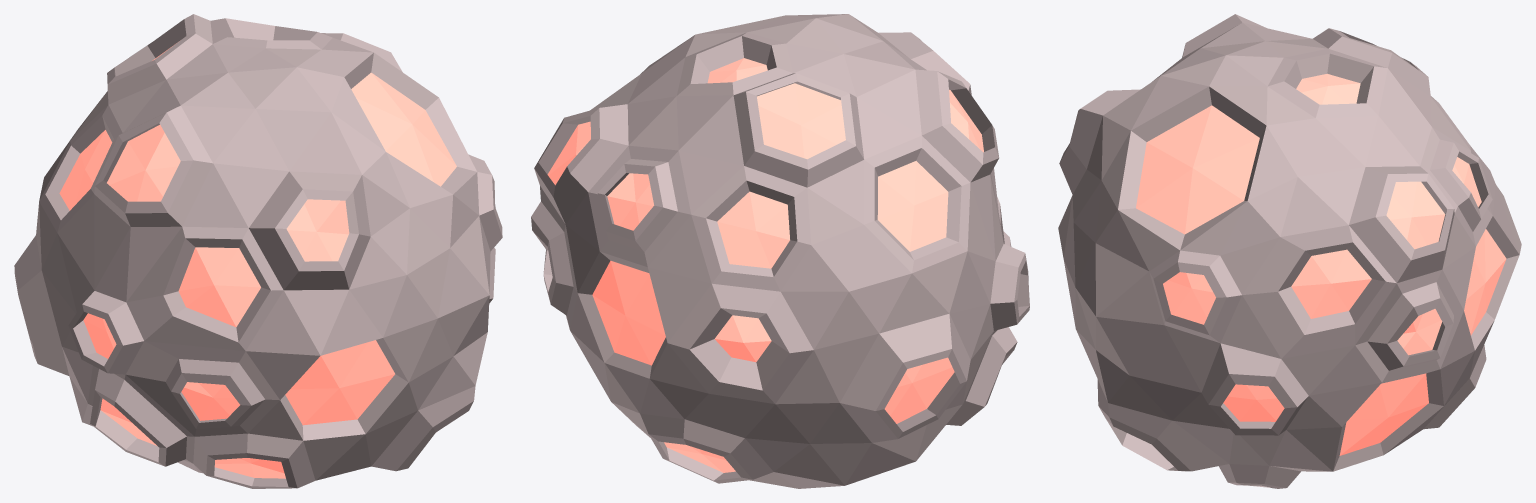
Rendered from SM_asteroida_duza_mocna.fbx.
3 views of the same model, side by side, from view 1: azimuth 30°, elevation 25°; view 2: azimuth 150°, elevation 25°; view 3: azimuth 270°, elevation 25° (orthographic). The views are drawn at different scales.
Parts seen in each view (by area): view 1: SM_asteroida_duza_mocna; view 2: SM_asteroida_duza_mocna; view 3: SM_asteroida_duza_mocna.
Part boxes in pixels (x1=…): SM_asteroida_duza_mocna: x1=14, y1=14, x2=502, y2=488; SM_asteroida_duza_mocna: x1=531, y1=14, x2=1029, y2=488; SM_asteroida_duza_mocna: x1=1058, y1=14, x2=1521, y2=488.
Size of the model in its own units: 1.5 by 1.41 by 1.49.
